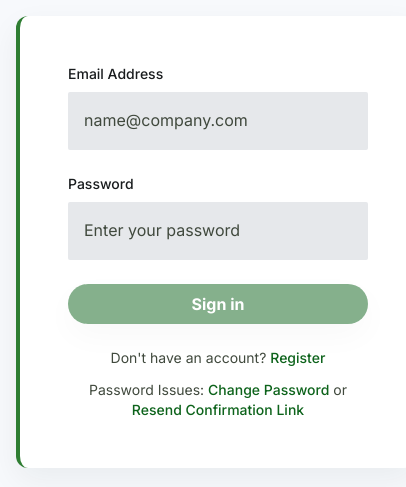
Test: Login Page › Button State Management › should disable submit button when form is invalid
The width and height of the screenshot is (406, 487).
Expected: the button "Sign in" is disabled, [68, 284, 368, 324]
Type "john@example.com" into the field labelled "Email Address" at (218, 121), box [68, 92, 368, 150]
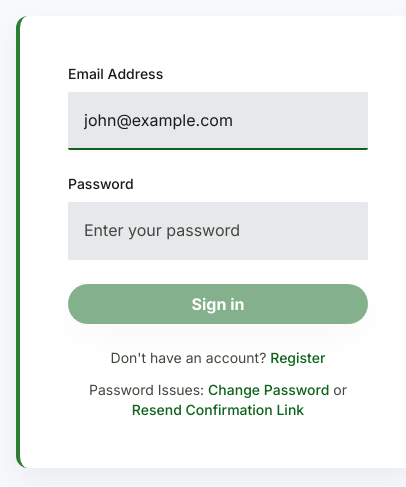
Type "ValidPass123" into the password field labelled "Password" at (218, 231), box [68, 202, 368, 260]
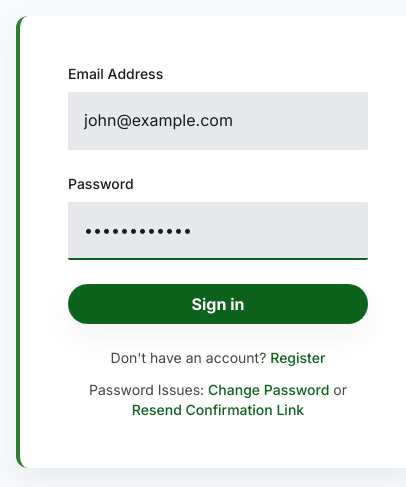
Expected: the button "Sign in" is enabled, [68, 284, 368, 324]
